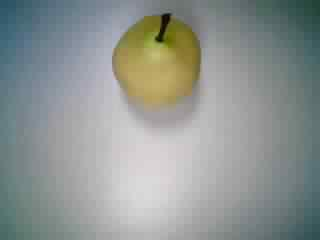pear: (104, 4, 210, 111)
